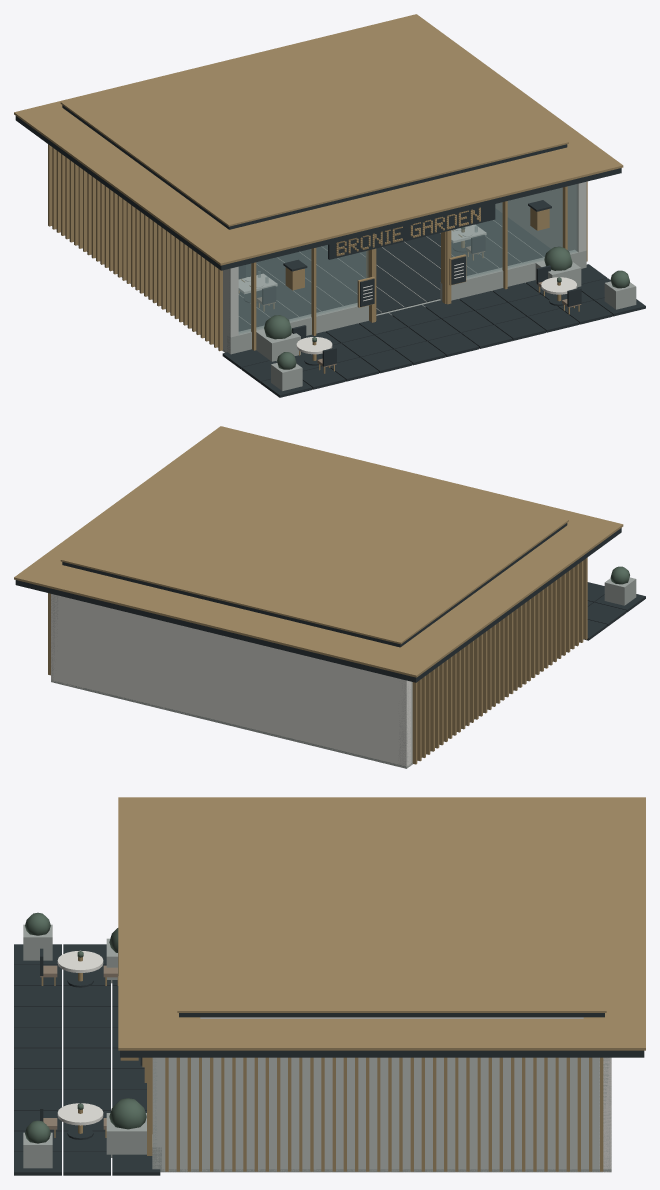
3 views of the same model, one above another, from view 1: azimuth 30°, elevation 25°; view 2: azimuth 150°, elevation 25°; view 3: azimuth 270°, elevation 25° (orthographic). The views are drawn at different scales.
Visible parts, largest first — view 1: Bronze Garden: bronze, Bronze Garden: dark, Bronze Garden: glass, Bronze Garden: stone, Bronze Garden: concrete, Bronze Garden: ivory, Bronze Garden: leaf; view 2: Bronze Garden: bronze, Bronze Garden: ivory, Bronze Garden: dark, Bronze Garden: stone, Bronze Garden: concrete; view 3: Bronze Garden: bronze, Bronze Garden: concrete, Bronze Garden: dark, Bronze Garden: stone, Bronze Garden: ivory, Bronze Garden: leaf, Bronze Garden: teak.
Boxes of the visible parts, <box> form: Bronze Garden: bronze: <box>14,14,623,373</box>; Bronze Garden: dark: <box>15,105,645,397</box>; Bronze Garden: glass: <box>229,184,577,334</box>; Bronze Garden: stone: <box>56,229,636,390</box>; Bronze Garden: concrete: <box>78,181,586,353</box>; Bronze Garden: ivory: <box>238,224,576,354</box>; Bronze Garden: leaf: <box>264,227,629,369</box>; Bronze Garden: bronze: <box>14,426,623,764</box>; Bronze Garden: ivory: <box>51,594,411,767</box>; Bronze Garden: dark: <box>15,523,645,682</box>; Bronze Garden: stone: <box>51,577,636,768</box>; Bronze Garden: concrete: <box>51,594,412,767</box>; Bronze Garden: bronze: <box>41,797,645,1171</box>; Bronze Garden: concrete: <box>152,1057,611,1172</box>; Bronze Garden: dark: <box>14,944,644,1175</box>; Bronze Garden: stone: <box>23,924,611,1172</box>; Bronze Garden: ivory: <box>57,950,611,1172</box>; Bronze Garden: leaf: <box>25,912,146,1143</box>; Bronze Garden: teak: <box>40,965,118,1129</box>.
Bounding box in the file's own units: 18.1 × 5.28 × 19.28.
